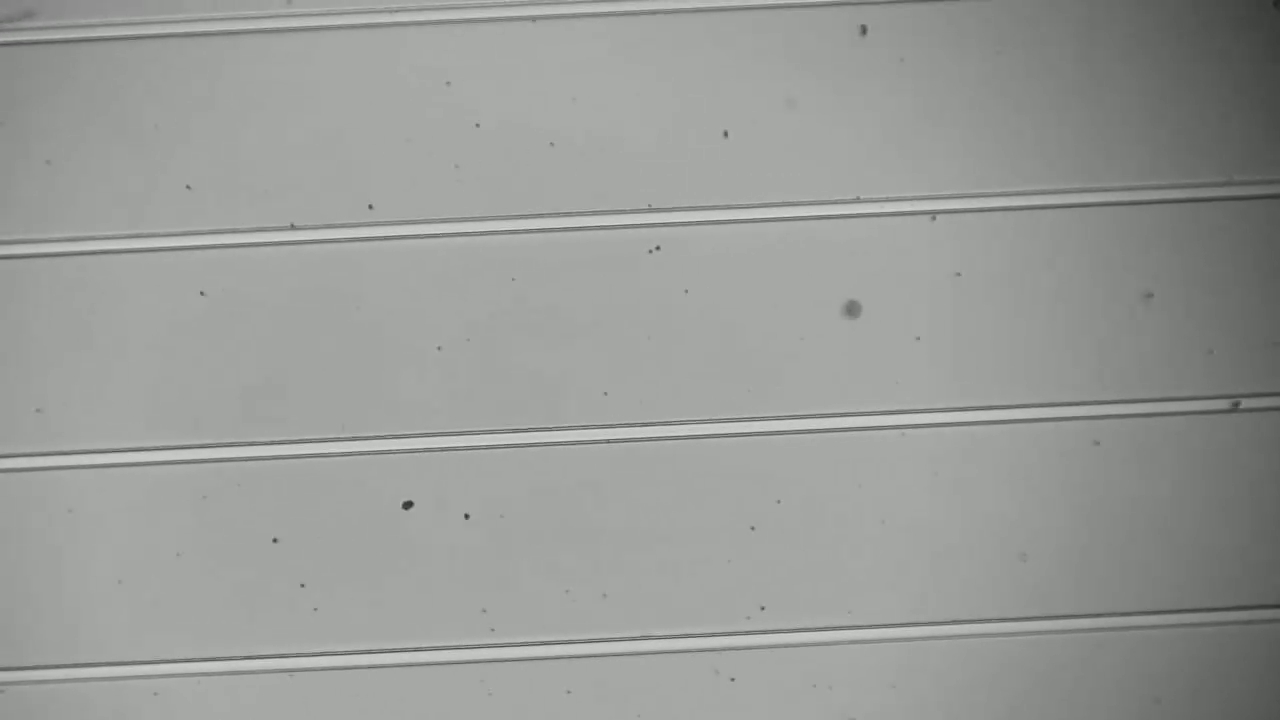stains_enbedded: (1227, 389, 1249, 419)
